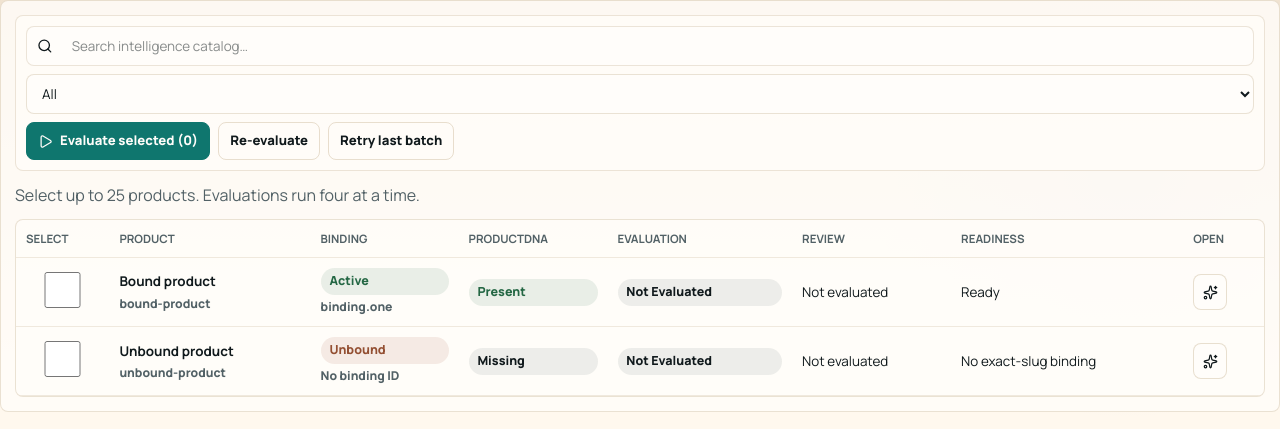
Scenario: Aurora catalog workspace › searches, filters, and selects products without ranking them
Expected: the text "Bound product" is shown, [119,272,216,290]
Select "Binding Unbound" in the dropdown named "Aurora state filter": coordinates (640, 94) [26,74,1254,114]
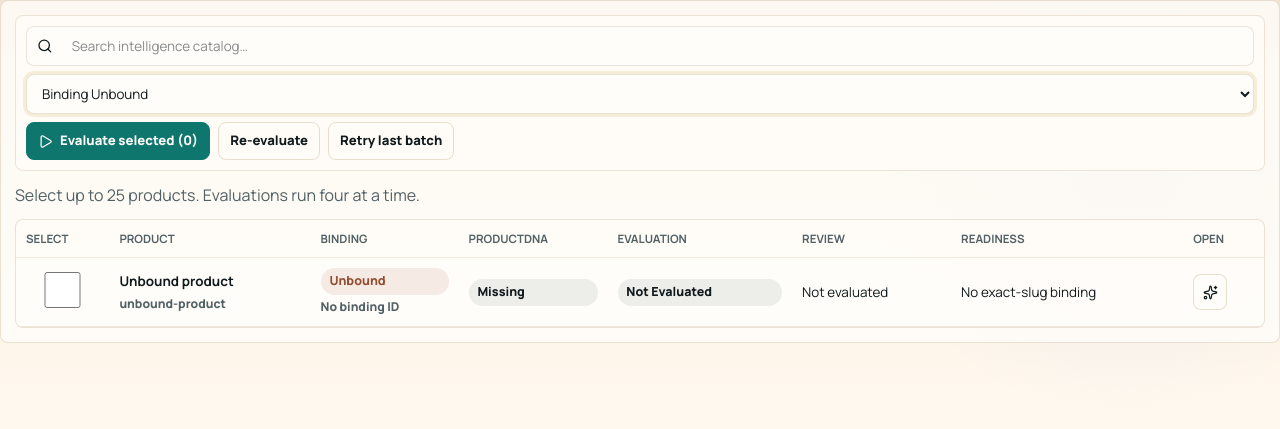
Expected: the text "Unbound product" is shown, [119,272,234,290]
Click the checkbox named "Select Unbound product": coordinates (63, 290) [26,272,99,308]
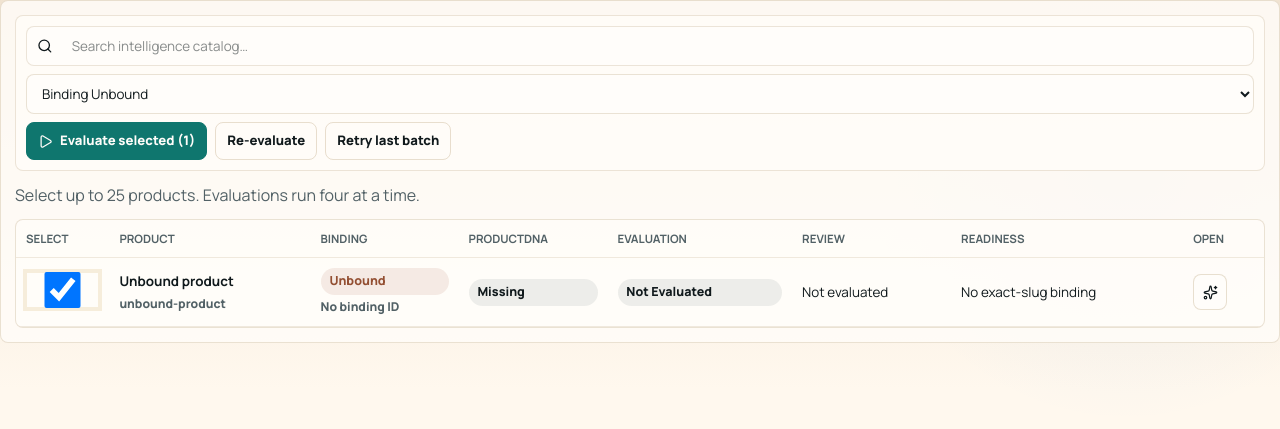
Result: the button "Evaluate selected (1)" is enabled at [26,122,207,160]
